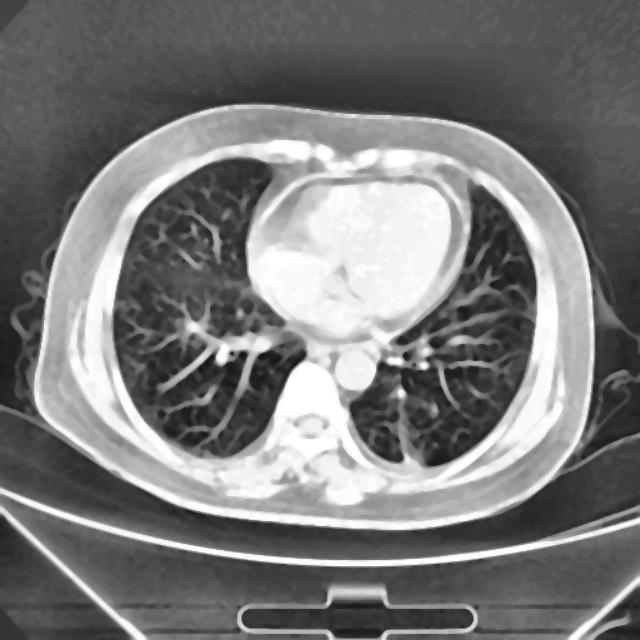covid: (31, 102, 602, 530)
